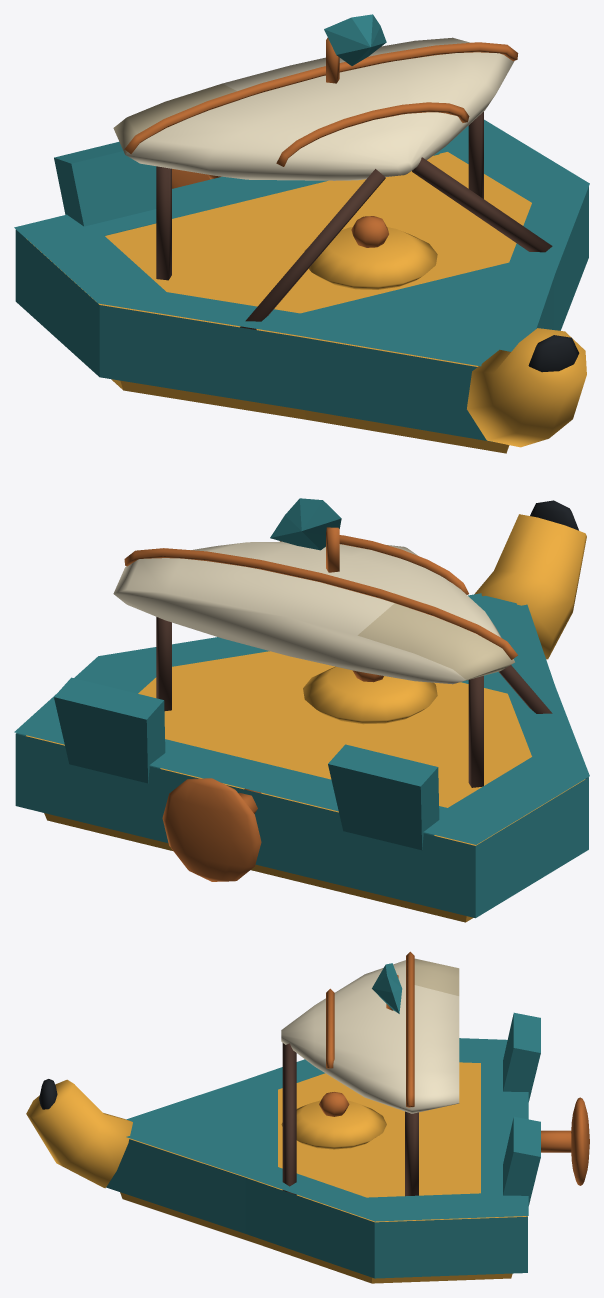
Rendered from copperskiff.glb.
The picture shows the model from 3 angles, top to bottom: view 1: azimuth 30°, elevation 25°; view 2: azimuth 150°, elevation 25°; view 3: azimuth 270°, elevation 25°; orthographic projection. The views are drawn at different scales.
Visible parts, largest first — view 1: ME_20261020_copperskiff_team_coaming_wall.002, ME_20261020_copperskiff_copper_boat_belly.002, ME_20261020_copperskiff_canvas_lens_0.002, ME_20261020_copperskiff_team_top_coaming.002, ME_20261020_copperskiff_team_foredeck.002, ME_20261020_copperskiff_curved_bow_spout.002, ME_20261020_copperskiff_stern_board_-1.002, ME_20261020_copperskiff_kettle_lid.002, ME_20261020_copperskiff_copper_canvas_binding_0_1.002, ME_20261020_copperskiff_canvas_support_-1_0.002, ME_20261020_copperskiff_canvas_support_1_0.002, ME_20261020_copperskiff_team_leaf_pennant.002 (+5 smaller); view 2: ME_20261020_copperskiff_canvas_lens_0.002, ME_20261020_copperskiff_team_coaming_wall.002, ME_20261020_copperskiff_copper_boat_belly.002, ME_20261020_copperskiff_team_top_coaming.002, ME_20261020_copperskiff_stern_board_1.002, ME_20261020_copperskiff_stern_board_-1.002, ME_20261020_copperskiff_curved_bow_spout.002, ME_20261020_copperskiff_pusher_disc.002, ME_20261020_copperskiff_kettle_lid.002, ME_20261020_copperskiff_copper_canvas_binding_0_1.002, ME_20261020_copperskiff_team_foredeck.002, ME_20261020_copperskiff_team_leaf_pennant.002 (+6 smaller); view 3: ME_20261020_copperskiff_team_coaming_wall.002, ME_20261020_copperskiff_copper_boat_belly.002, ME_20261020_copperskiff_canvas_lens_0.002, ME_20261020_copperskiff_team_top_coaming.002, ME_20261020_copperskiff_team_foredeck.002, ME_20261020_copperskiff_curved_bow_spout.002, ME_20261020_copperskiff_kettle_lid.002, ME_20261020_copperskiff_stern_board_1.002, ME_20261020_copperskiff_stern_board_-1.002, ME_20261020_copperskiff_canvas_support_1_0.002, ME_20261020_copperskiff_copper_canvas_binding_0_1.002, ME_20261020_copperskiff_pusher_disc.002 (+6 smaller).
Boxes of the visible parts, <box> form: ME_20261020_copperskiff_team_coaming_wall.002: <box>15,187,588,442</box>; ME_20261020_copperskiff_copper_boat_belly.002: <box>26,152,531,453</box>; ME_20261020_copperskiff_canvas_lens_0.002: <box>113,37,514,180</box>; ME_20261020_copperskiff_team_top_coaming.002: <box>14,119,589,366</box>; ME_20261020_copperskiff_team_foredeck.002: <box>270,254,543,360</box>; ME_20261020_copperskiff_curved_bow_spout.002: <box>467,328,586,447</box>; ME_20261020_copperskiff_stern_board_-1.002: <box>54,142,156,235</box>; ME_20261020_copperskiff_kettle_lid.002: <box>304,227,437,289</box>; ME_20261020_copperskiff_copper_canvas_binding_0_1.002: <box>124,42,518,154</box>; ME_20261020_copperskiff_canvas_support_-1_0.002: <box>240,169,385,329</box>; ME_20261020_copperskiff_canvas_support_1_0.002: <box>412,157,552,252</box>; ME_20261020_copperskiff_team_leaf_pennant.002: <box>324,14,386,65</box>; ME_20261020_copperskiff_canvas_lens_0.002: <box>113,541,514,684</box>; ME_20261020_copperskiff_team_coaming_wall.002: <box>15,733,588,918</box>; ME_20261020_copperskiff_copper_boat_belly.002: <box>26,651,585,922</box>; ME_20261020_copperskiff_team_top_coaming.002: <box>14,593,589,844</box>; ME_20261020_copperskiff_stern_board_1.002: <box>54,677,165,783</box>; ME_20261020_copperskiff_stern_board_-1.002: <box>328,744,439,850</box>; ME_20261020_copperskiff_curved_bow_spout.002: <box>474,514,586,659</box>; ME_20261020_copperskiff_pusher_disc.002: <box>162,778,261,881</box>; ME_20261020_copperskiff_kettle_lid.002: <box>303,666,437,724</box>; ME_20261020_copperskiff_copper_canvas_binding_0_1.002: <box>124,548,517,659</box>; ME_20261020_copperskiff_team_foredeck.002: <box>461,595,543,701</box>; ME_20261020_copperskiff_team_leaf_pennant.002: <box>270,498,341,550</box>; ME_20261020_copperskiff_team_coaming_wall.002: <box>106,1139,527,1278</box>; ME_20261020_copperskiff_copper_boat_belly.002: <box>120,1062,527,1283</box>; ME_20261020_copperskiff_canvas_lens_0.002: <box>281,958,459,1113</box>; ME_20261020_copperskiff_team_top_coaming.002: <box>126,1038,528,1221</box>; ME_20261020_copperskiff_team_foredeck.002: <box>131,1075,277,1178</box>; ME_20261020_copperskiff_curved_bow_spout.002: <box>26,1079,132,1188</box>; ME_20261020_copperskiff_kettle_lid.002: <box>281,1100,386,1149</box>; ME_20261020_copperskiff_stern_board_1.002: <box>503,1116,540,1205</box>; ME_20261020_copperskiff_stern_board_-1.002: <box>503,1012,540,1101</box>; ME_20261020_copperskiff_canvas_support_1_0.002: <box>282,1043,296,1195</box>; ME_20261020_copperskiff_copper_canvas_binding_0_1.002: <box>406,951,414,1107</box>; ME_20261020_copperskiff_pusher_disc.002: <box>571,1097,589,1185</box>.
Bounding box in the file's own units: 1.59 × 1.04 × 2.07.
